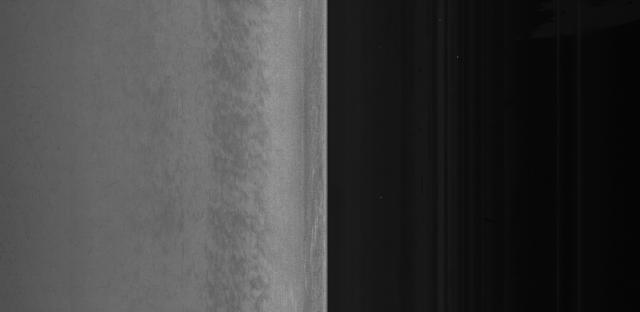silk_spot: (211, 127, 282, 223)
